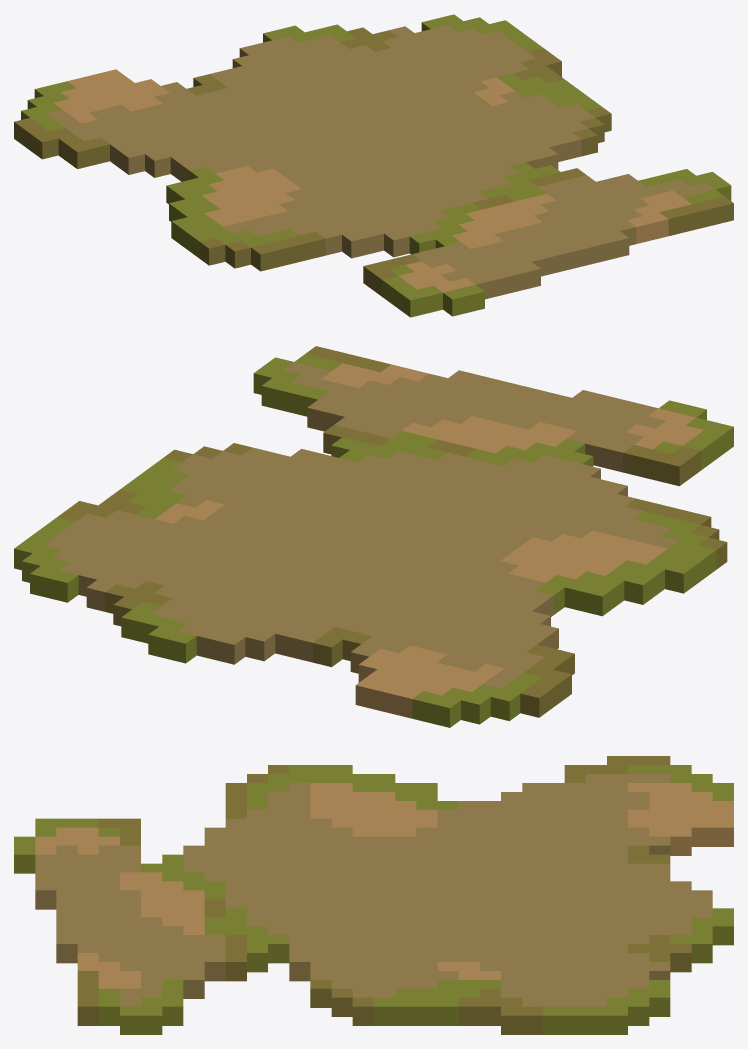
The model's file is Road.FBX.
3 views of the same model, one above another, from view 1: azimuth 30°, elevation 25°; view 2: azimuth 150°, elevation 25°; view 3: azimuth 270°, elevation 25° (orthographic). The views are drawn at different scales.
Visible parts, largest first — view 1: Road; view 2: Road; view 3: Road.
Part boxes in pixels (x1,y1,x2,y2): Road: (14,14,733,317); Road: (14,346,733,727); Road: (14,756,733,1034).
Size of the model in its own units: 2.9 by 0.1 by 3.4.
Materials: 1 (1 with a texture image).
